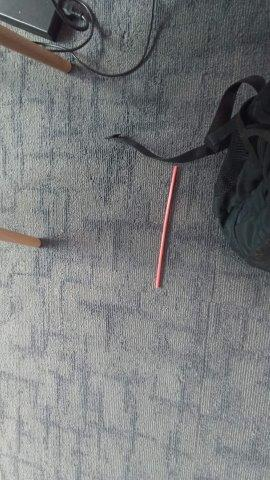sedotan: (156, 167, 177, 288)
